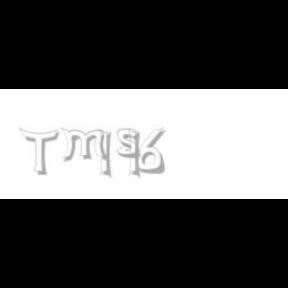6: (136, 128, 166, 176)
T: (19, 128, 59, 176)
l: (99, 128, 115, 180), (128, 128, 144, 180)
m: (59, 128, 111, 162)
s: (117, 128, 145, 160)
